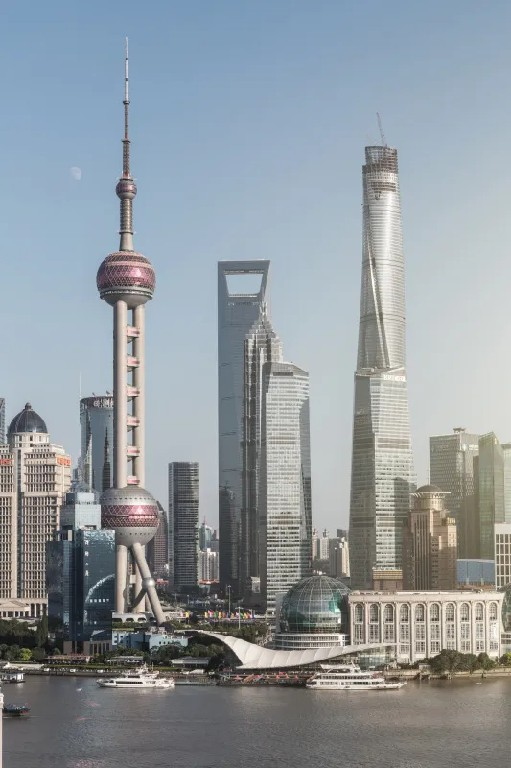Oriental: (97, 37, 167, 624)
